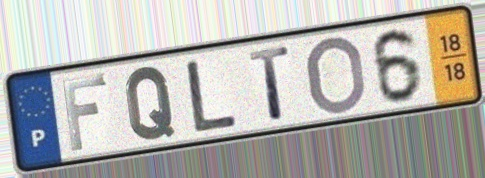6: (370, 26, 426, 105)
F: (59, 71, 110, 154)
L: (184, 57, 242, 135)
O: (305, 33, 369, 116)
Q: (123, 64, 178, 143)
T: (245, 43, 294, 122)
